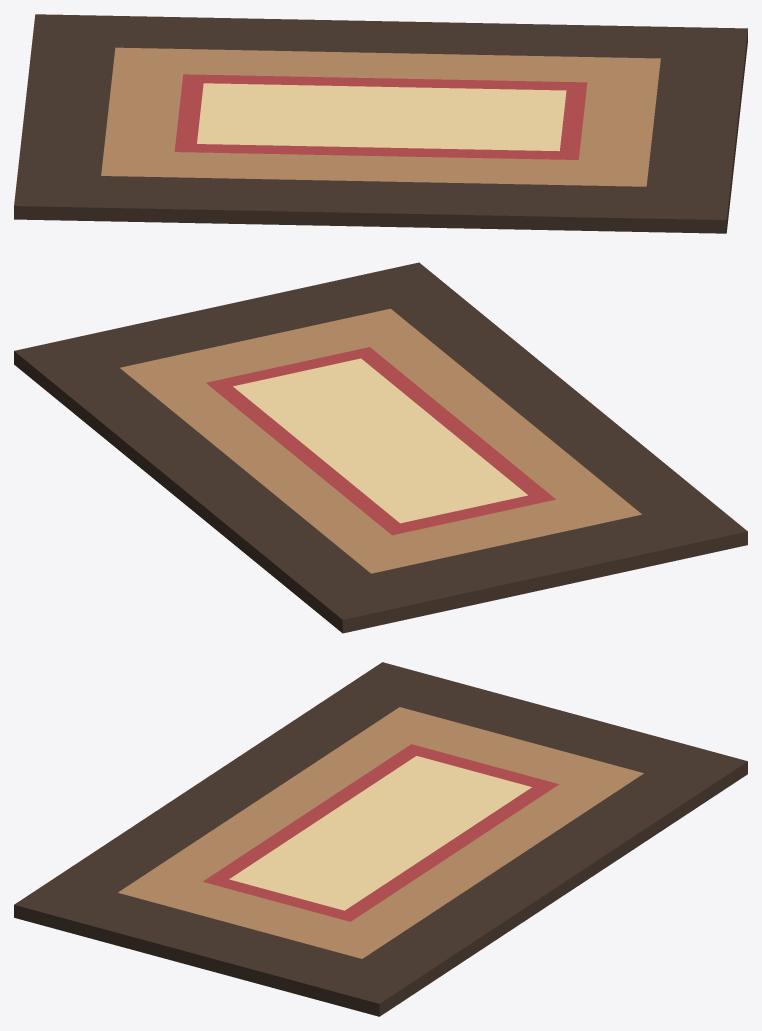
File: Entrance Carpet.fbx
3 renders of one model, top to bottom at view 1: azimuth 30°, elevation 25°; view 2: azimuth 150°, elevation 25°; view 3: azimuth 270°, elevation 25°, orthographic. The views are drawn at different scales.
Visible parts, largest first — view 1: Entrance Carpet; view 2: Entrance Carpet; view 3: Entrance Carpet.
Boxes of the visible parts, x1=… form: Entrance Carpet: x1=14, y1=14, x2=747, y2=233; Entrance Carpet: x1=14, y1=262, x2=747, y2=633; Entrance Carpet: x1=14, y1=662, x2=747, y2=1016.
Size of the model in its own units: 209 by 190 by 3.7.
